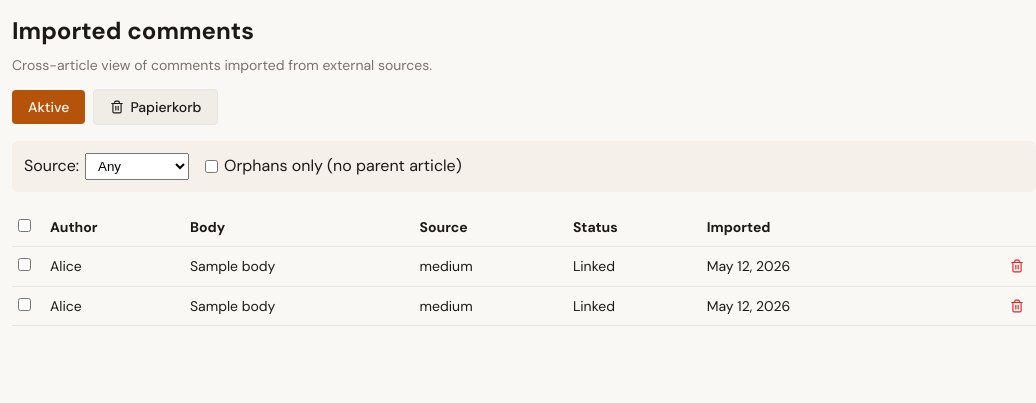
CommentsAdminSection bulk-delete wiring › single-row delete also removes the row from selection (reconcile rule)
# Select both rows.
Step 1. Click the checkbox with test id "comments-admin-select-row-1" → (24, 265), box [18,258,31,271]
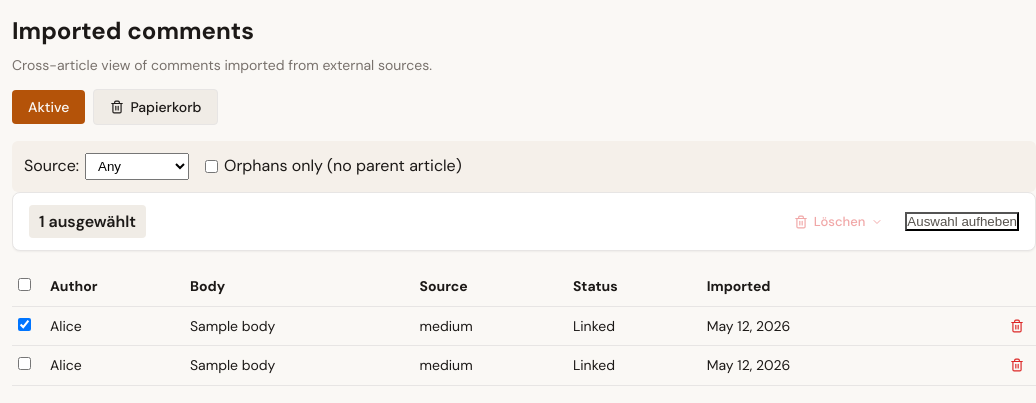
Step 2. Click the checkbox with test id "comments-admin-select-row-2" → (24, 364), box [18,357,31,370]
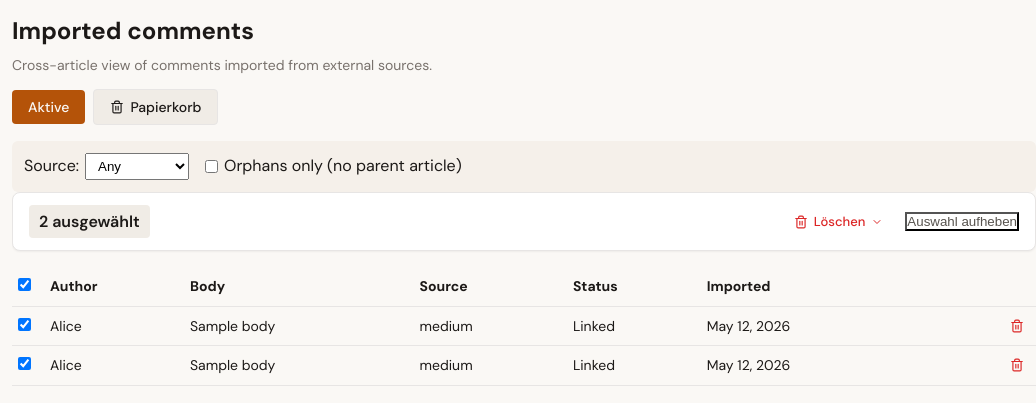
Check: the element with test id "comment-bulk-action-bar" shows "2", box [39,211,140,232]
# Delete row-1 via the per-row Trash button.
Step 3. Click the button with test id "comments-admin-delete-row-1" → (1017, 326), box [1004,313,1030,339]
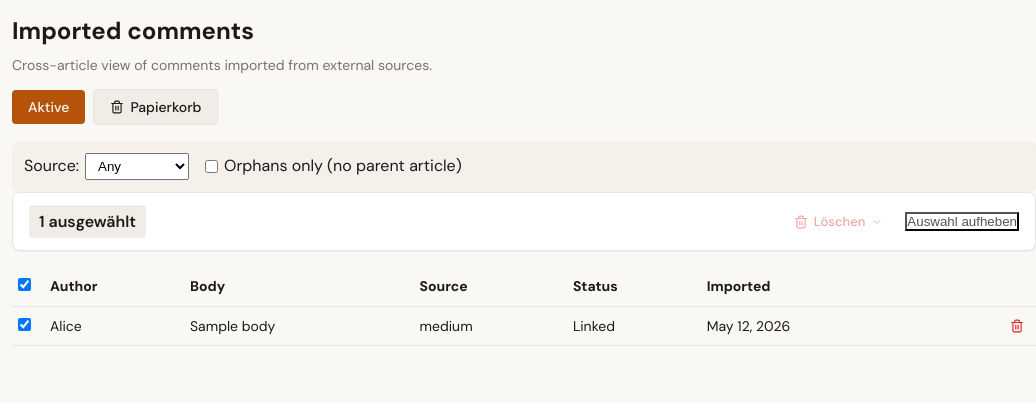
Check: the button with test id "comment-bulk-delete-menu" is disabled, box [784,209,893,234]
